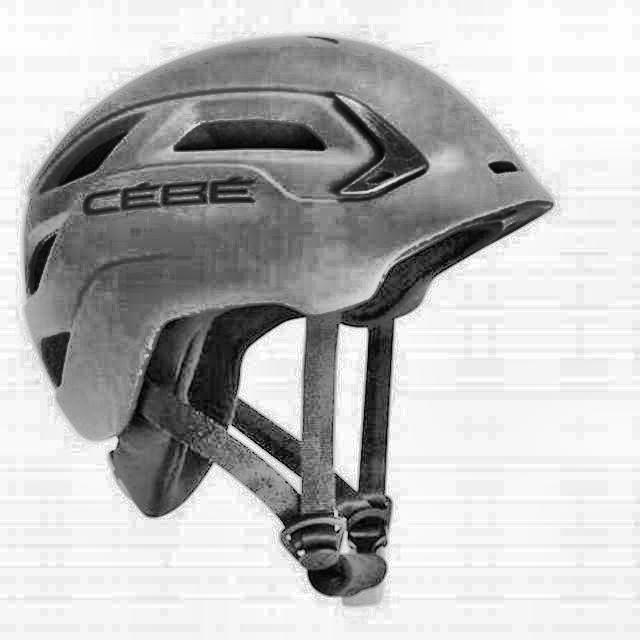Helmet: (17, 27, 560, 619)
